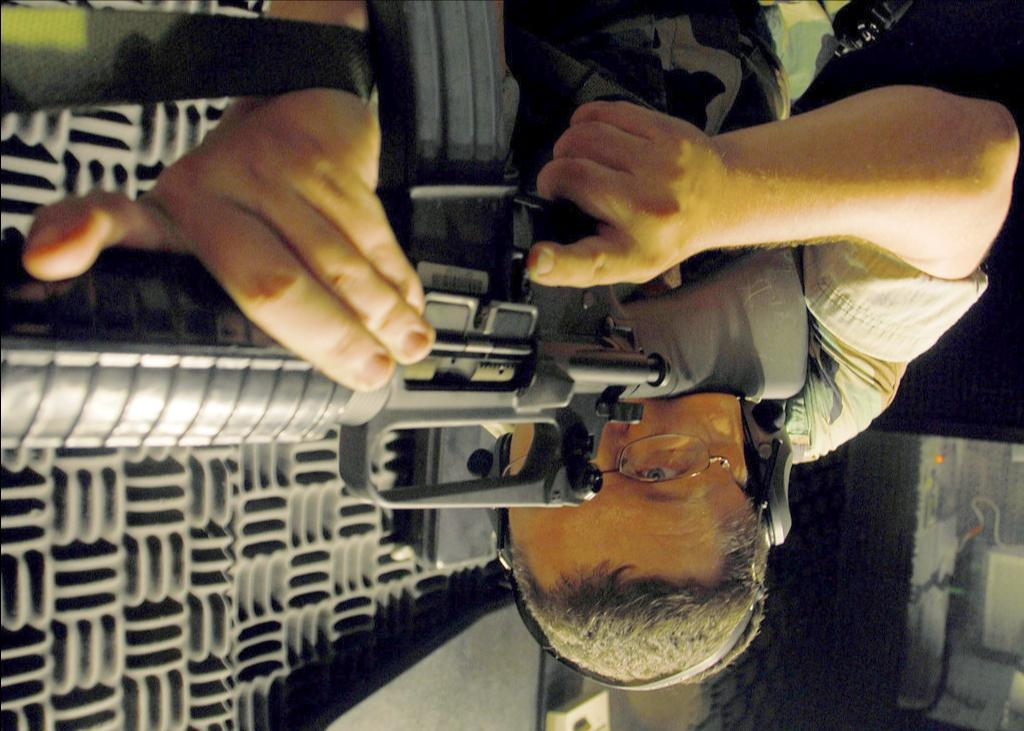gun: (0, 0, 805, 509)
